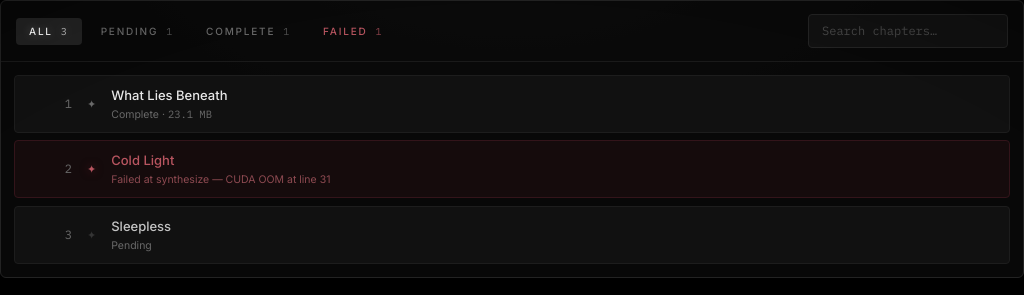
Test case: ChapterQueue › searches by title
The width and height of the screenshot is (1024, 295).
Type "sleep" into the field with placeholder "Search chapters…" at (908, 31), box [808,14,1008,48]
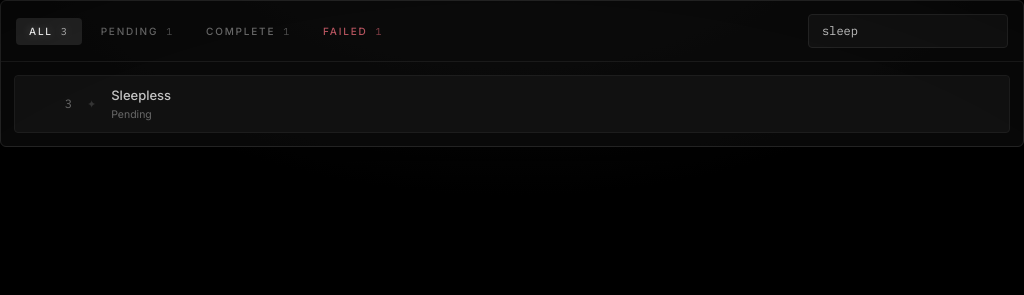
Expected: the text "Sleepless" is shown, [111,87,171,103]
Expected: the text "Cold Light" is gone
